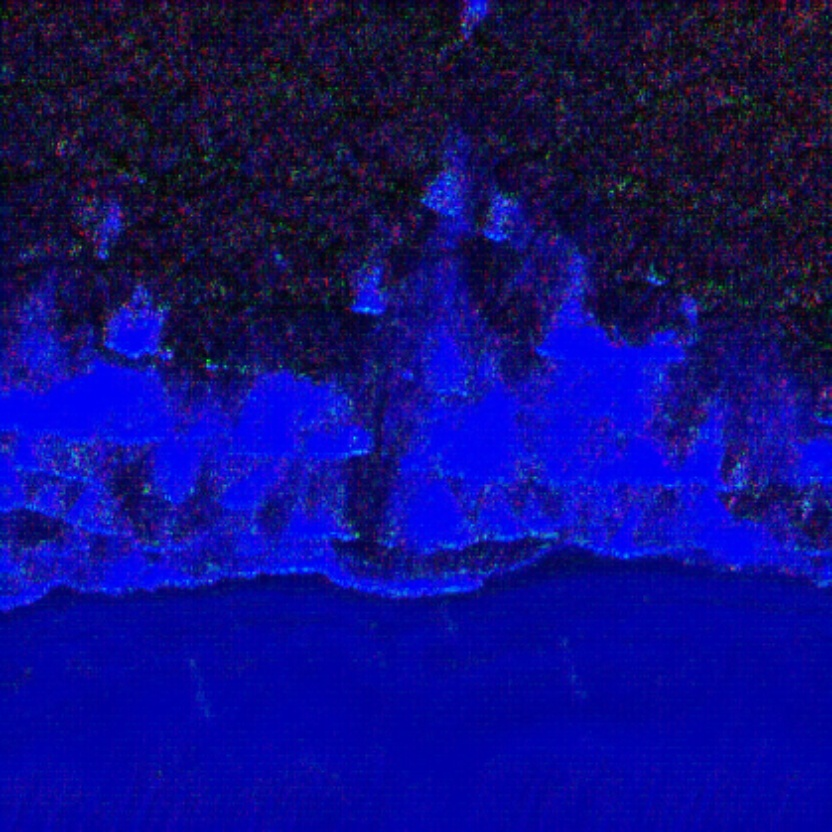rip_current: (280, 213, 504, 536)
